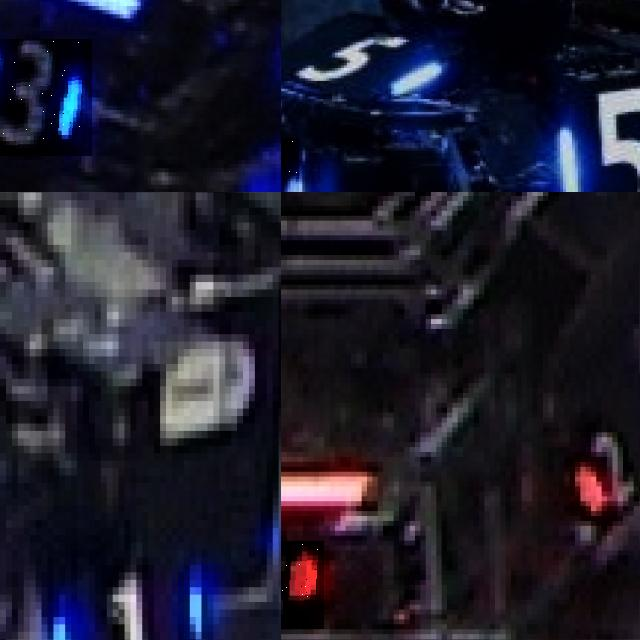B1: (44, 557, 222, 640)
B3: (0, 39, 91, 155)
B5: (554, 83, 640, 192)
R2: (281, 540, 324, 629)
